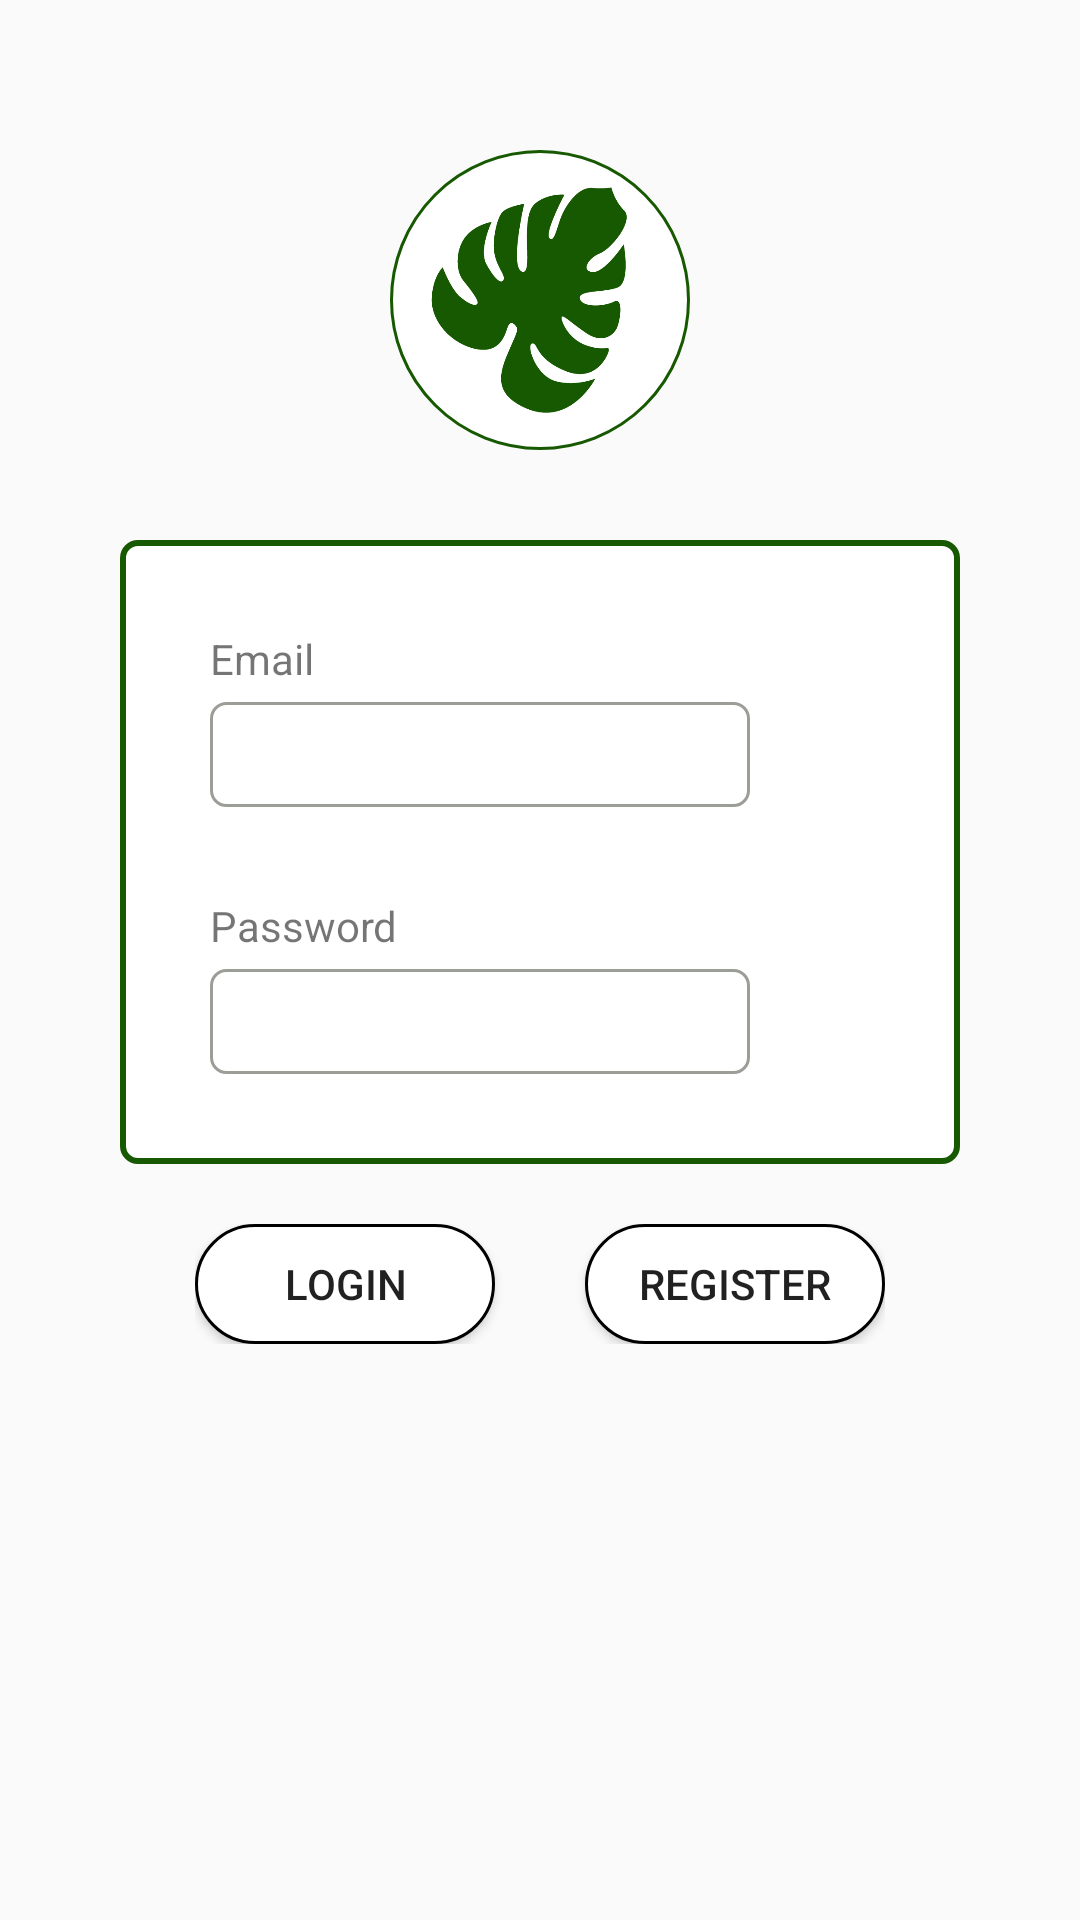

Icon click points for this 1080 × 1920 phone screenshot, format (x,y):
leaf: (540,300)
